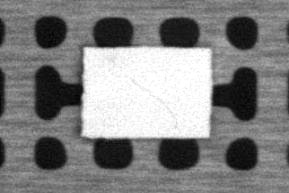DIE_CRACK: (125, 77, 177, 120)
